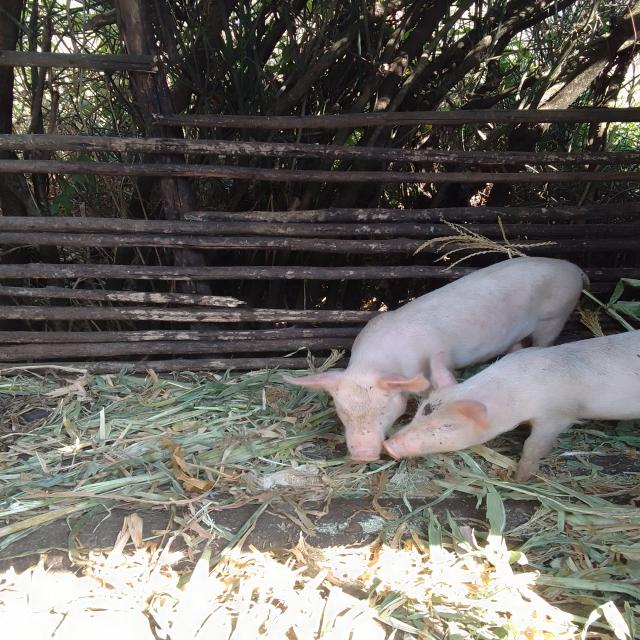pig: (225, 228, 603, 481)
